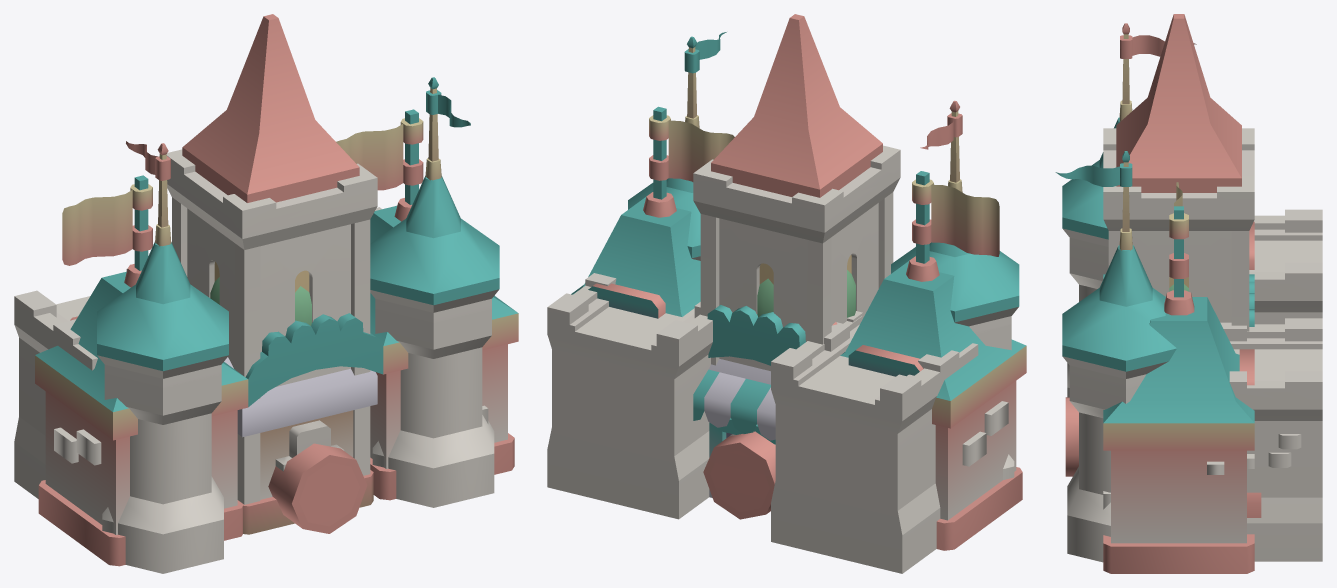
The model's file is park-kit.glb.
The picture shows the model from 3 angles, left to right: view 1: azimuth 30°, elevation 25°; view 2: azimuth 150°, elevation 25°; view 3: azimuth 270°, elevation 25°; orthographic projection. The views are drawn at different scales.
Parts seen in each view (by area): view 1: castle, entrance, stallFood, boat, treeTall; view 2: castle, entrance, stallFood, boat, treeTall; view 3: castle, entrance, boat.
Boxes of the visible parts, <box> form: castle: <box>14,14,499,573</box>; entrance: <box>35,109,518,566</box>; stallFood: <box>224,357,377,534</box>; boat: <box>268,420,367,533</box>; treeTall: <box>210,277,311,325</box>; castle: <box>547,14,1019,573</box>; entrance: <box>571,106,1026,550</box>; stallFood: <box>693,322,837,497</box>; boat: <box>703,431,775,519</box>; treeTall: <box>757,270,855,317</box>; castle: <box>1055,14,1322,562</box>; entrance: <box>1103,182,1261,573</box>; boat: <box>1065,397,1078,476</box>.
Size of the model in its own units: 3.09 by 3.51 by 1.77.
